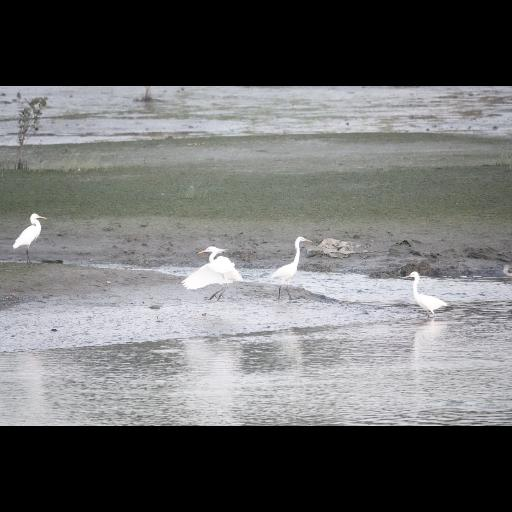chinese_egret: (180, 246, 242, 302), (270, 236, 314, 300), (403, 271, 447, 321), (12, 214, 48, 264)
